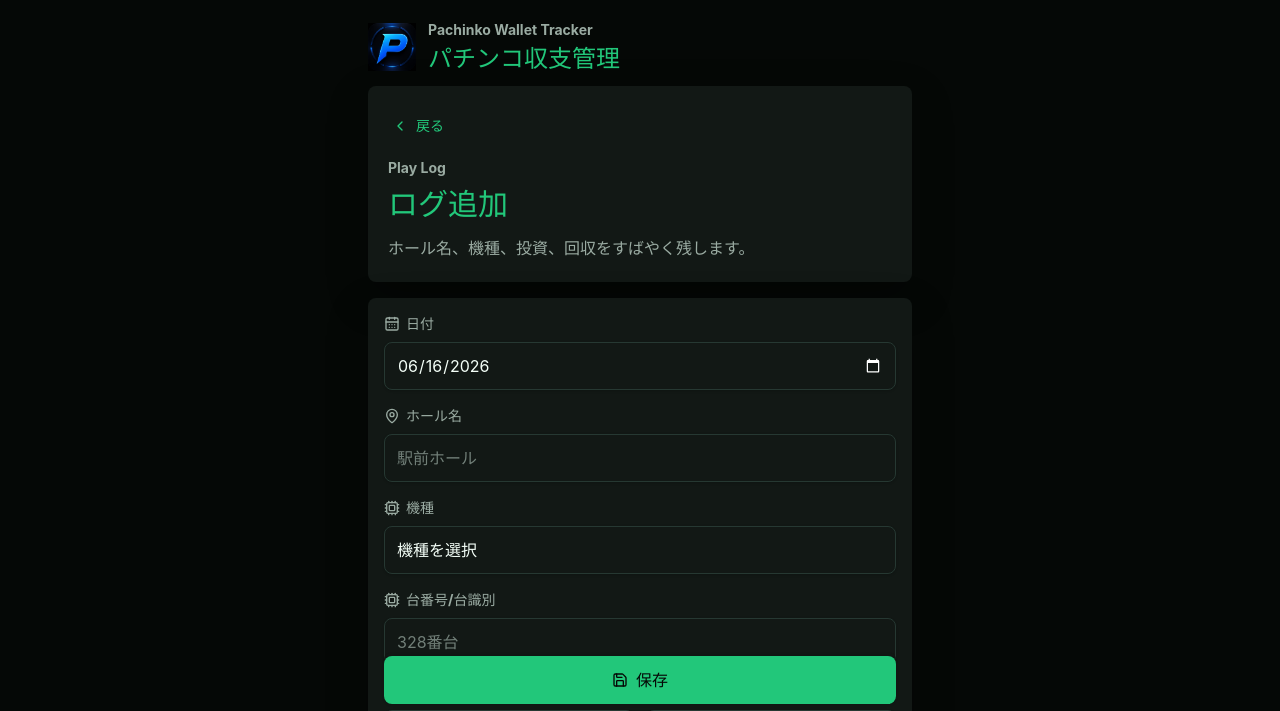
Scenario: log form › returns from the new log form to the log list without a confirmation dialog
In the field labelled "ホール名": [640, 458] box [384,434,896,482], type "入力途中ホール"
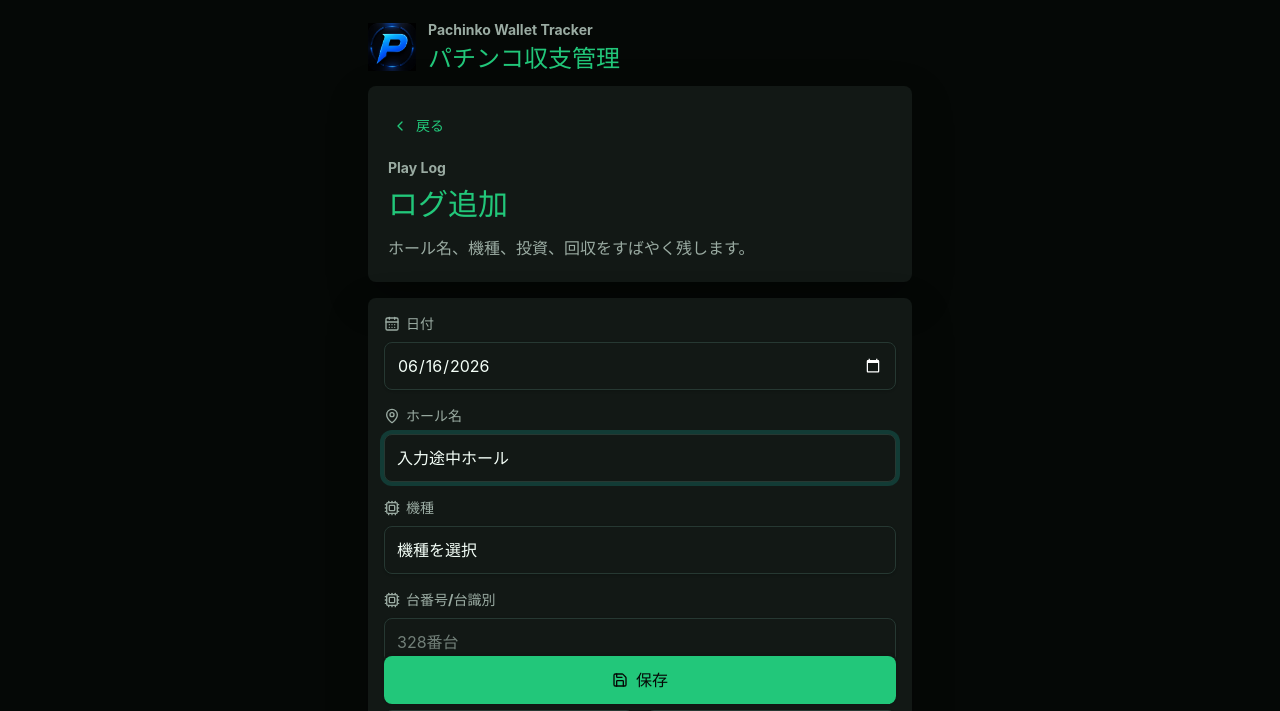
Click the link with aria-label "ログ一覧へ戻る": [418, 126] box [392,117,444,134]
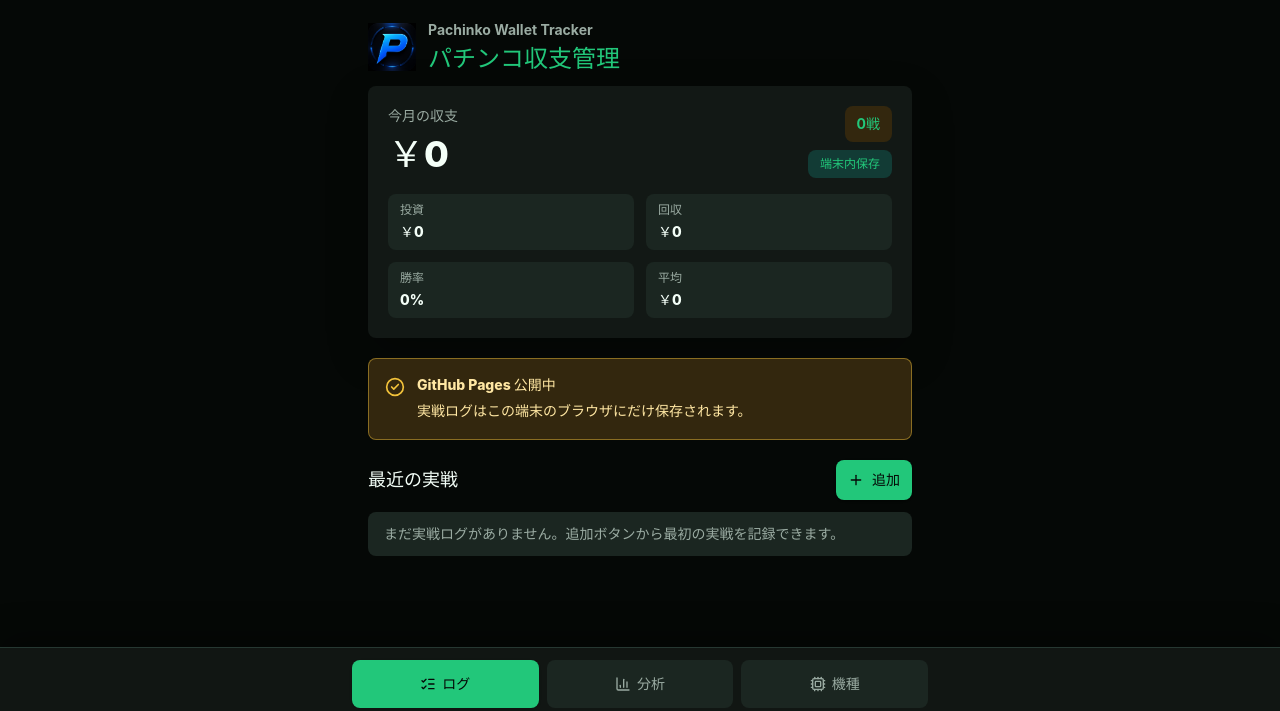
Check: the text "入力途中ホール" is not shown
Check: the heading "最近の実戦" is shown, box [368,466,458,494]
